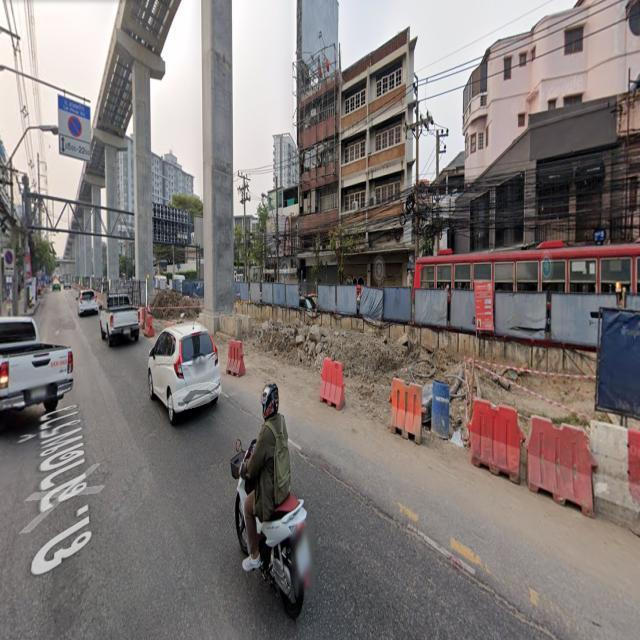fallen_object: (520, 410, 596, 532), (579, 413, 640, 547), (295, 346, 366, 421), (460, 386, 515, 480), (380, 365, 430, 459), (226, 322, 252, 386), (132, 299, 157, 346)
